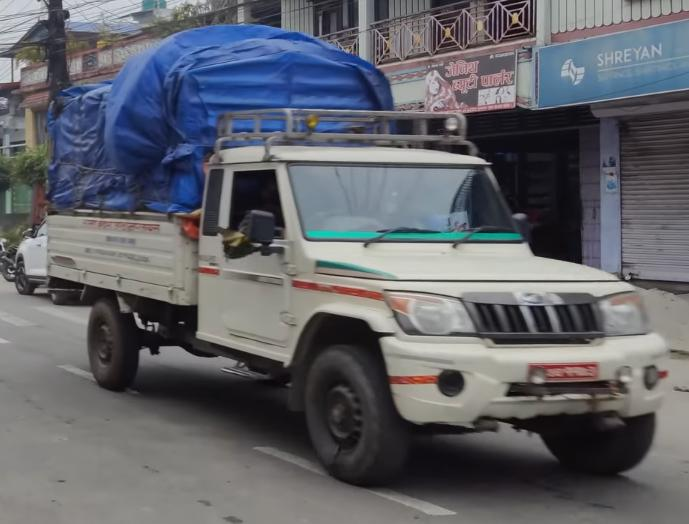car: (9, 212, 93, 304)
transport_vehicle: (28, 61, 669, 498)
